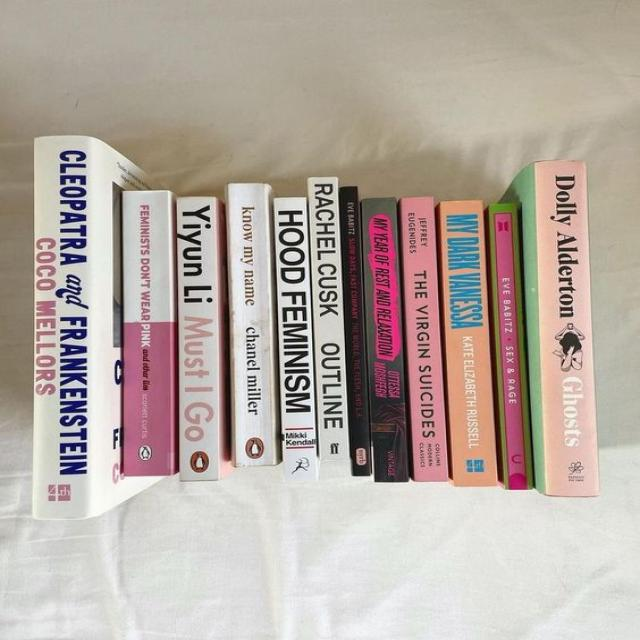book: (32, 136, 157, 518), (502, 161, 598, 496), (439, 200, 498, 486), (121, 191, 177, 477), (227, 183, 279, 466), (399, 196, 447, 481), (177, 197, 225, 481), (362, 198, 409, 482), (308, 176, 351, 478), (273, 197, 318, 479), (488, 203, 532, 489), (340, 187, 369, 475)
